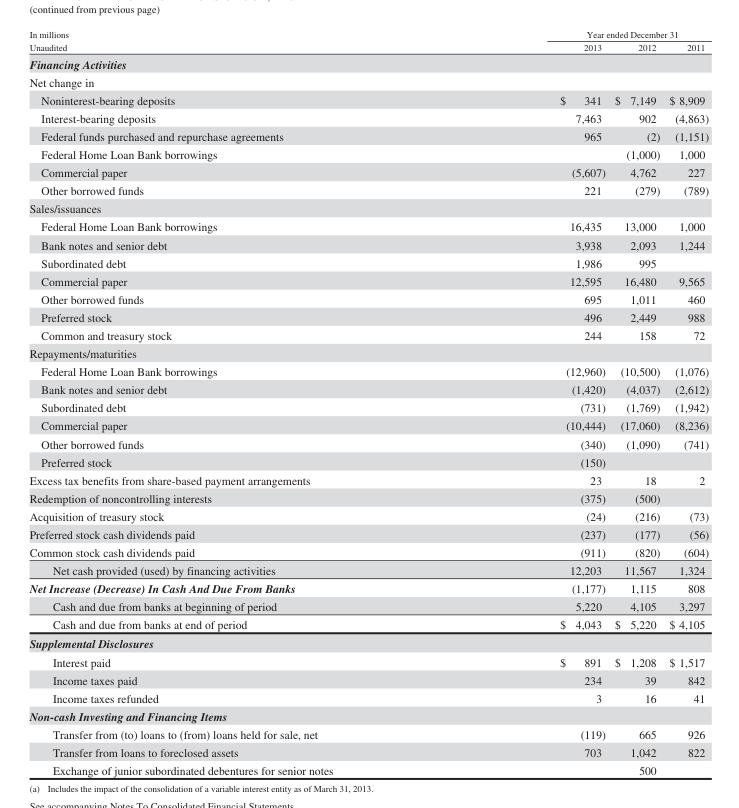table: (28, 28, 708, 776)
table column: (28, 28, 445, 776), (445, 28, 609, 776), (609, 28, 663, 776), (663, 28, 708, 776)
table column header: (28, 28, 708, 54)
table projected row header: (28, 633, 708, 652), (28, 54, 708, 72), (28, 72, 708, 90), (28, 199, 708, 217), (28, 344, 708, 362), (28, 706, 708, 724)
table row: (28, 108, 708, 127), (28, 307, 708, 326), (28, 524, 708, 543), (28, 633, 708, 652), (28, 724, 708, 743), (28, 54, 708, 72), (28, 72, 708, 90), (28, 90, 708, 108), (28, 127, 708, 145), (28, 145, 708, 163), (28, 163, 708, 181), (28, 181, 708, 199), (28, 199, 708, 217), (28, 217, 708, 235), (28, 235, 708, 253), (28, 253, 708, 271), (28, 271, 708, 289), (28, 289, 708, 307), (28, 326, 708, 344), (28, 344, 708, 362), (28, 362, 708, 380), (28, 380, 708, 398), (28, 398, 708, 416), (28, 416, 708, 434), (28, 434, 708, 452), (28, 452, 708, 470), (28, 470, 708, 488), (28, 488, 708, 506), (28, 506, 708, 524), (28, 543, 708, 561), (28, 561, 708, 579), (28, 579, 708, 597), (28, 597, 708, 615), (28, 615, 708, 633), (28, 652, 708, 670), (28, 670, 708, 688), (28, 688, 708, 706), (28, 706, 708, 724), (28, 743, 708, 761), (28, 761, 708, 776), (28, 40, 708, 54), (28, 28, 708, 40)
table spanning cell: (28, 28, 445, 54), (445, 28, 708, 40)
